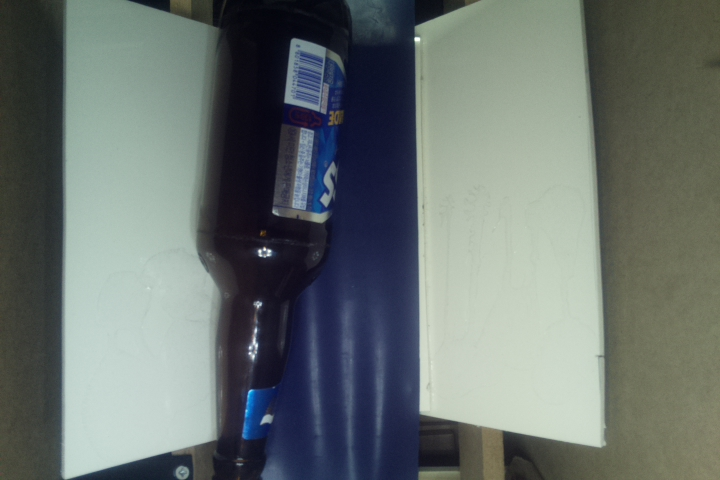makju: (187, 1, 356, 478)
